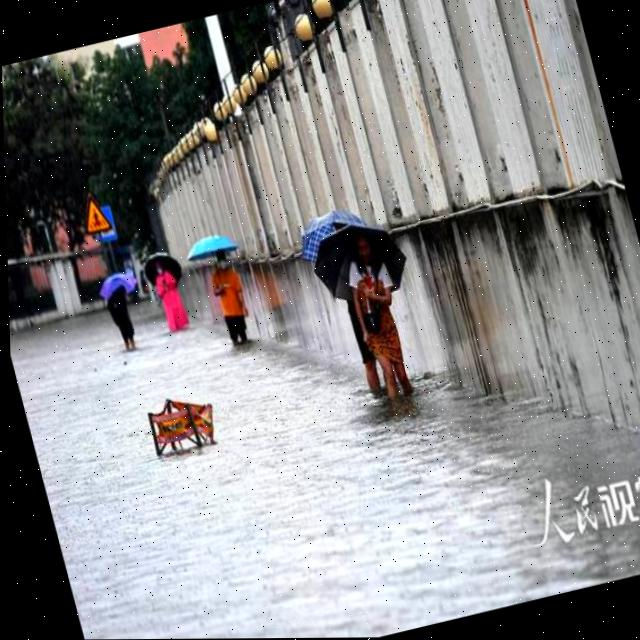civilian: (308, 221, 402, 403), (330, 233, 424, 405), (196, 236, 264, 361), (144, 258, 197, 336), (102, 283, 148, 356)
